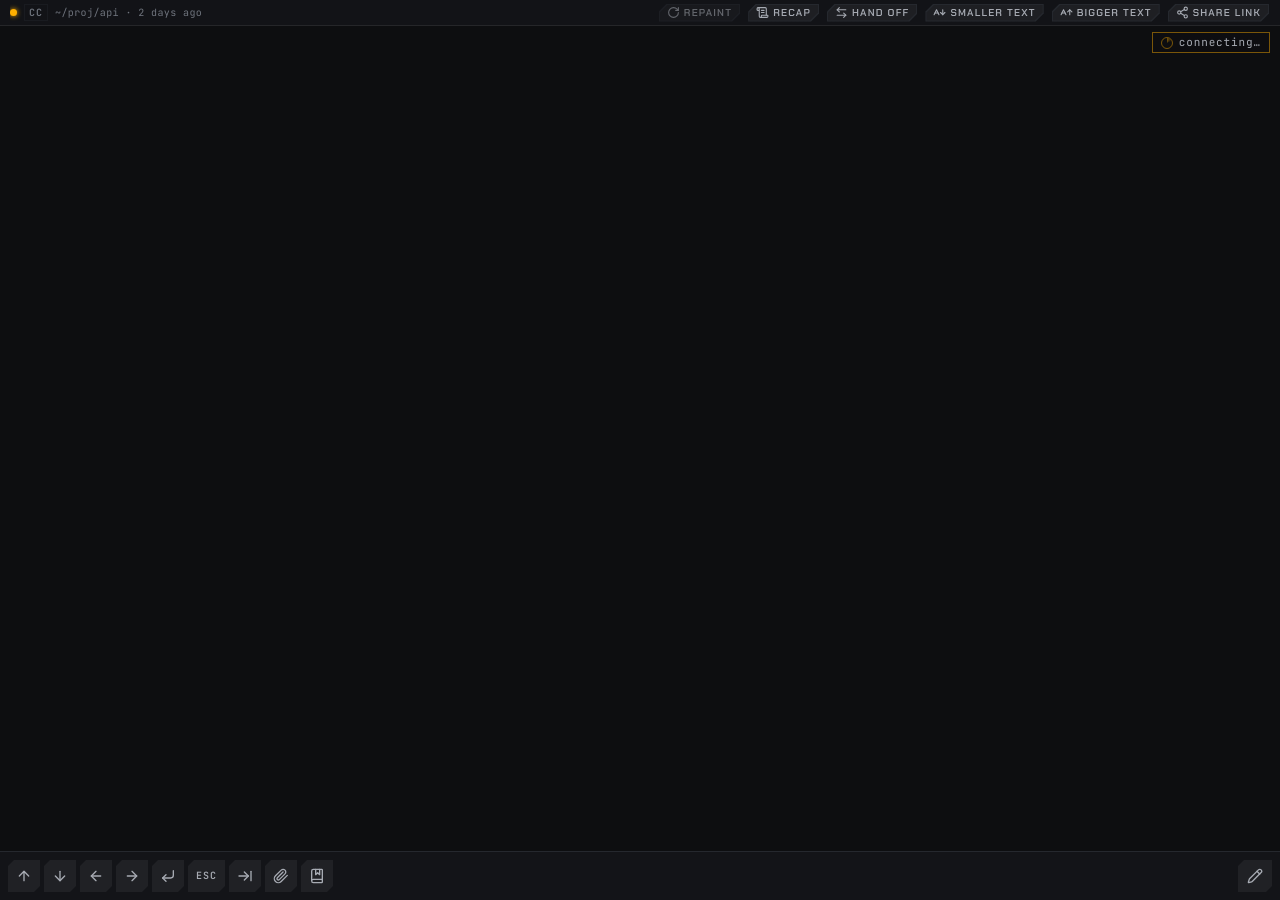
Test: the display title falls back to the short id — a one-char first message never leaks (#284)
Click the button with aria-label "open session brief". click: (784, 12)
box: x1=747 y1=2 x2=820 y2=22
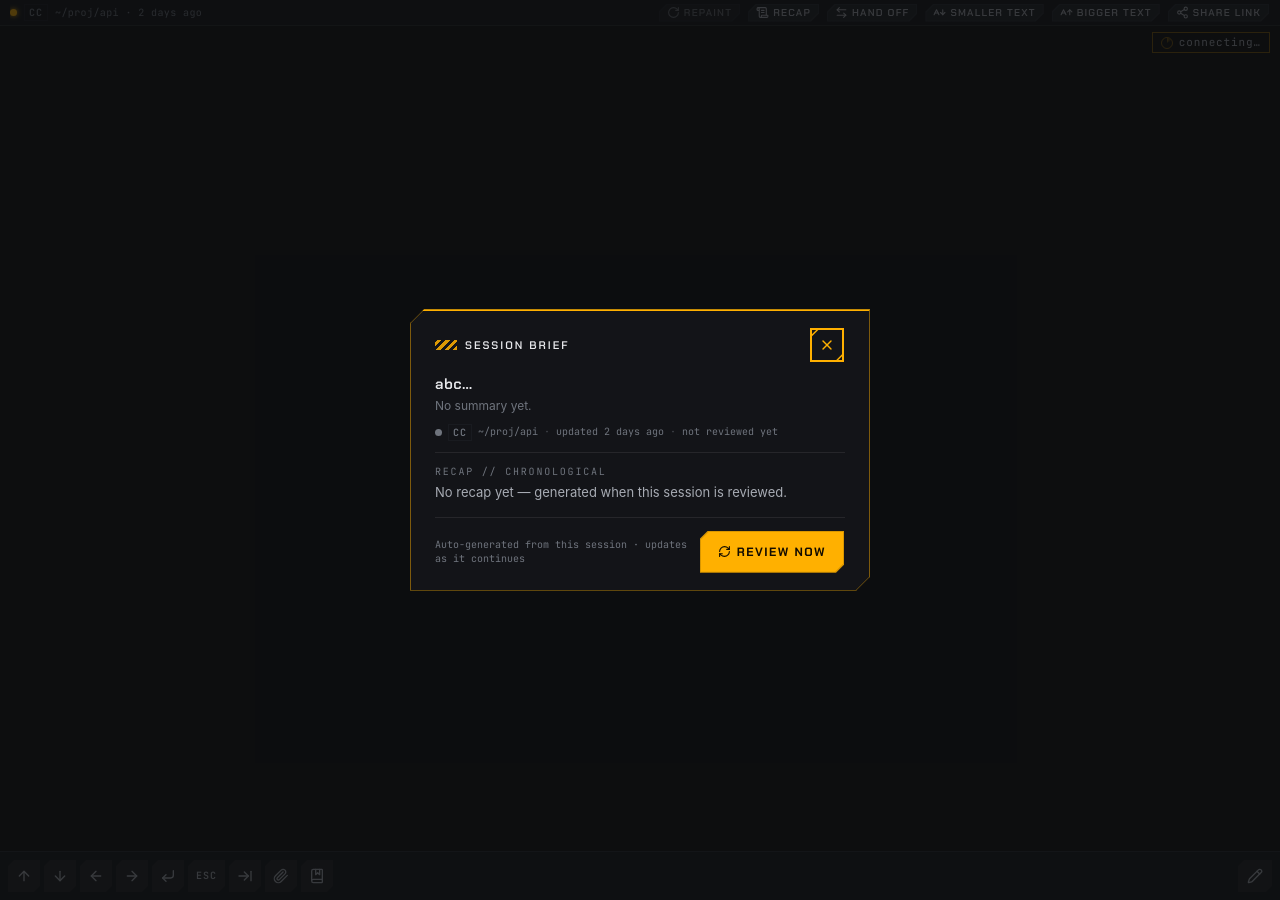
Now the dialog "abc…" is shown, box x1=410 y1=309 x2=870 y2=591
